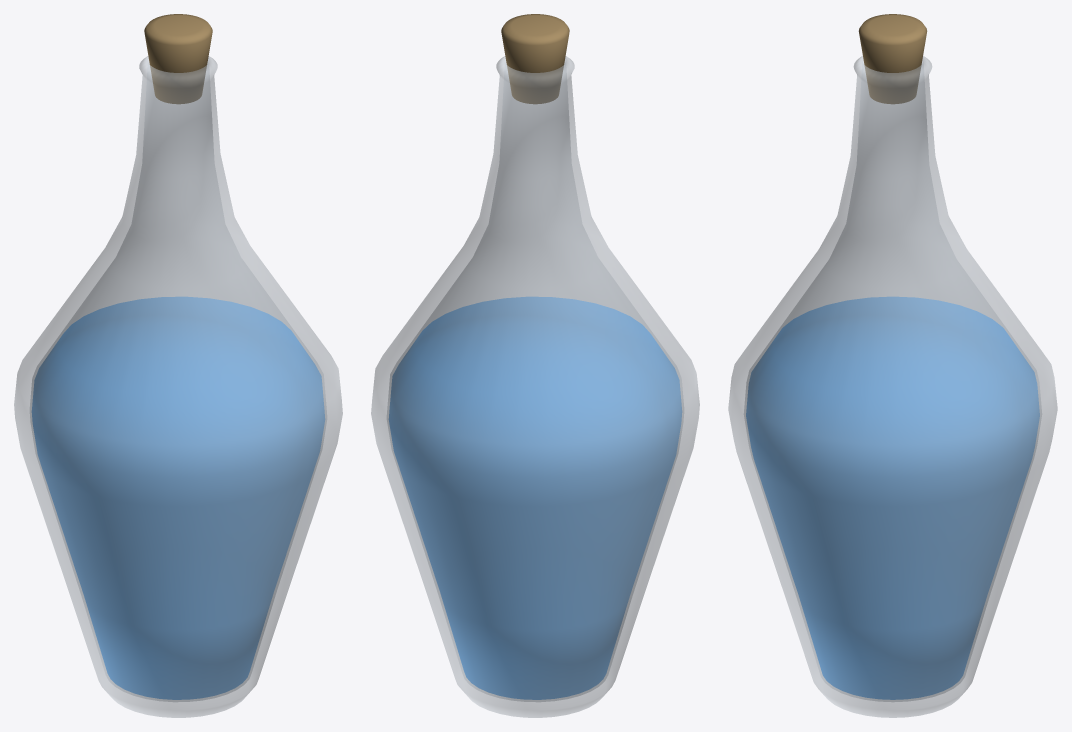
The model's file is VJ_Ampolla.fbx.
3 renders of one model, left to right at view 1: azimuth 30°, elevation 25°; view 2: azimuth 150°, elevation 25°; view 3: azimuth 270°, elevation 25°, orthographic.
Parts seen in each view (by area): view 1: Ampolla; view 2: Ampolla; view 3: Ampolla.
Part boxes in pixels (x1,y1,x2,y2): Ampolla: (14,14,342,717); Ampolla: (371,14,699,717); Ampolla: (728,14,1057,717).
Bounding box in the file's own units: 1.34 × 2.96 × 1.34.
